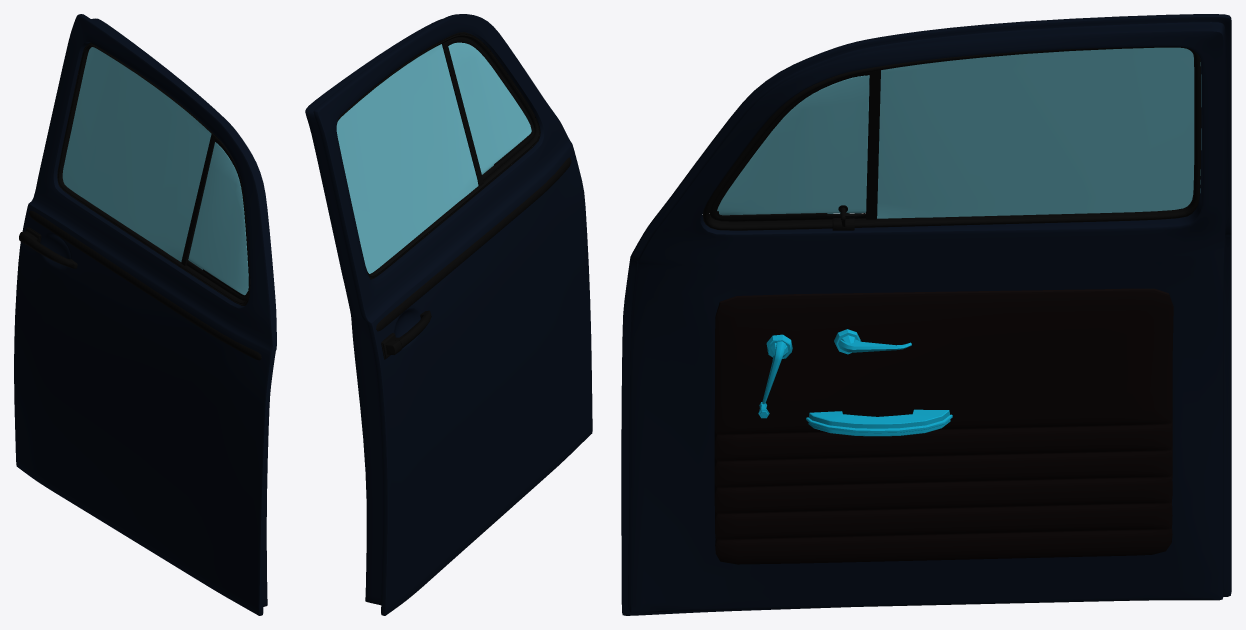
The model's file is Right_Door.obj.
3 renders of one model, left to right at view 1: azimuth 30°, elevation 25°; view 2: azimuth 150°, elevation 25°; view 3: azimuth 270°, elevation 25°, orthographic. The views are drawn at different scales.
Visible parts, largest first — view 1: Right_Door_1-Body, Right_Door_6-Glass_Windows, Right_Door_2-Extensoes; view 2: Right_Door_1-Body, Right_Door_6-Glass_Windows, Right_Door_2-Extensoes; view 3: Right_Door_1-Body, Right_Door_8-Interior_furniture, Right_Door_6-Glass_Windows, Right_Door_2-Extensoes, Right_Door_7-Interior_Acessories.
Part boxes in pixels (x1,y1,x2,y2): Right_Door_1-Body: [14, 14, 276, 615]; Right_Door_6-Glass_Windows: [62, 47, 248, 295]; Right_Door_2-Extensoes: [19, 42, 261, 360]; Right_Door_1-Body: [305, 14, 592, 615]; Right_Door_6-Glass_Windows: [336, 42, 531, 273]; Right_Door_2-Extensoes: [336, 32, 571, 359]; Right_Door_1-Body: [621, 14, 1231, 615]; Right_Door_8-Interior_furniture: [714, 288, 1173, 564]; Right_Door_6-Glass_Windows: [717, 47, 1201, 218]; Right_Door_2-Extensoes: [703, 46, 1201, 230]; Right_Door_7-Interior_Acessories: [758, 329, 952, 436].
Size of the model in its own units: 0.2152 by 1.03 by 0.9106.
